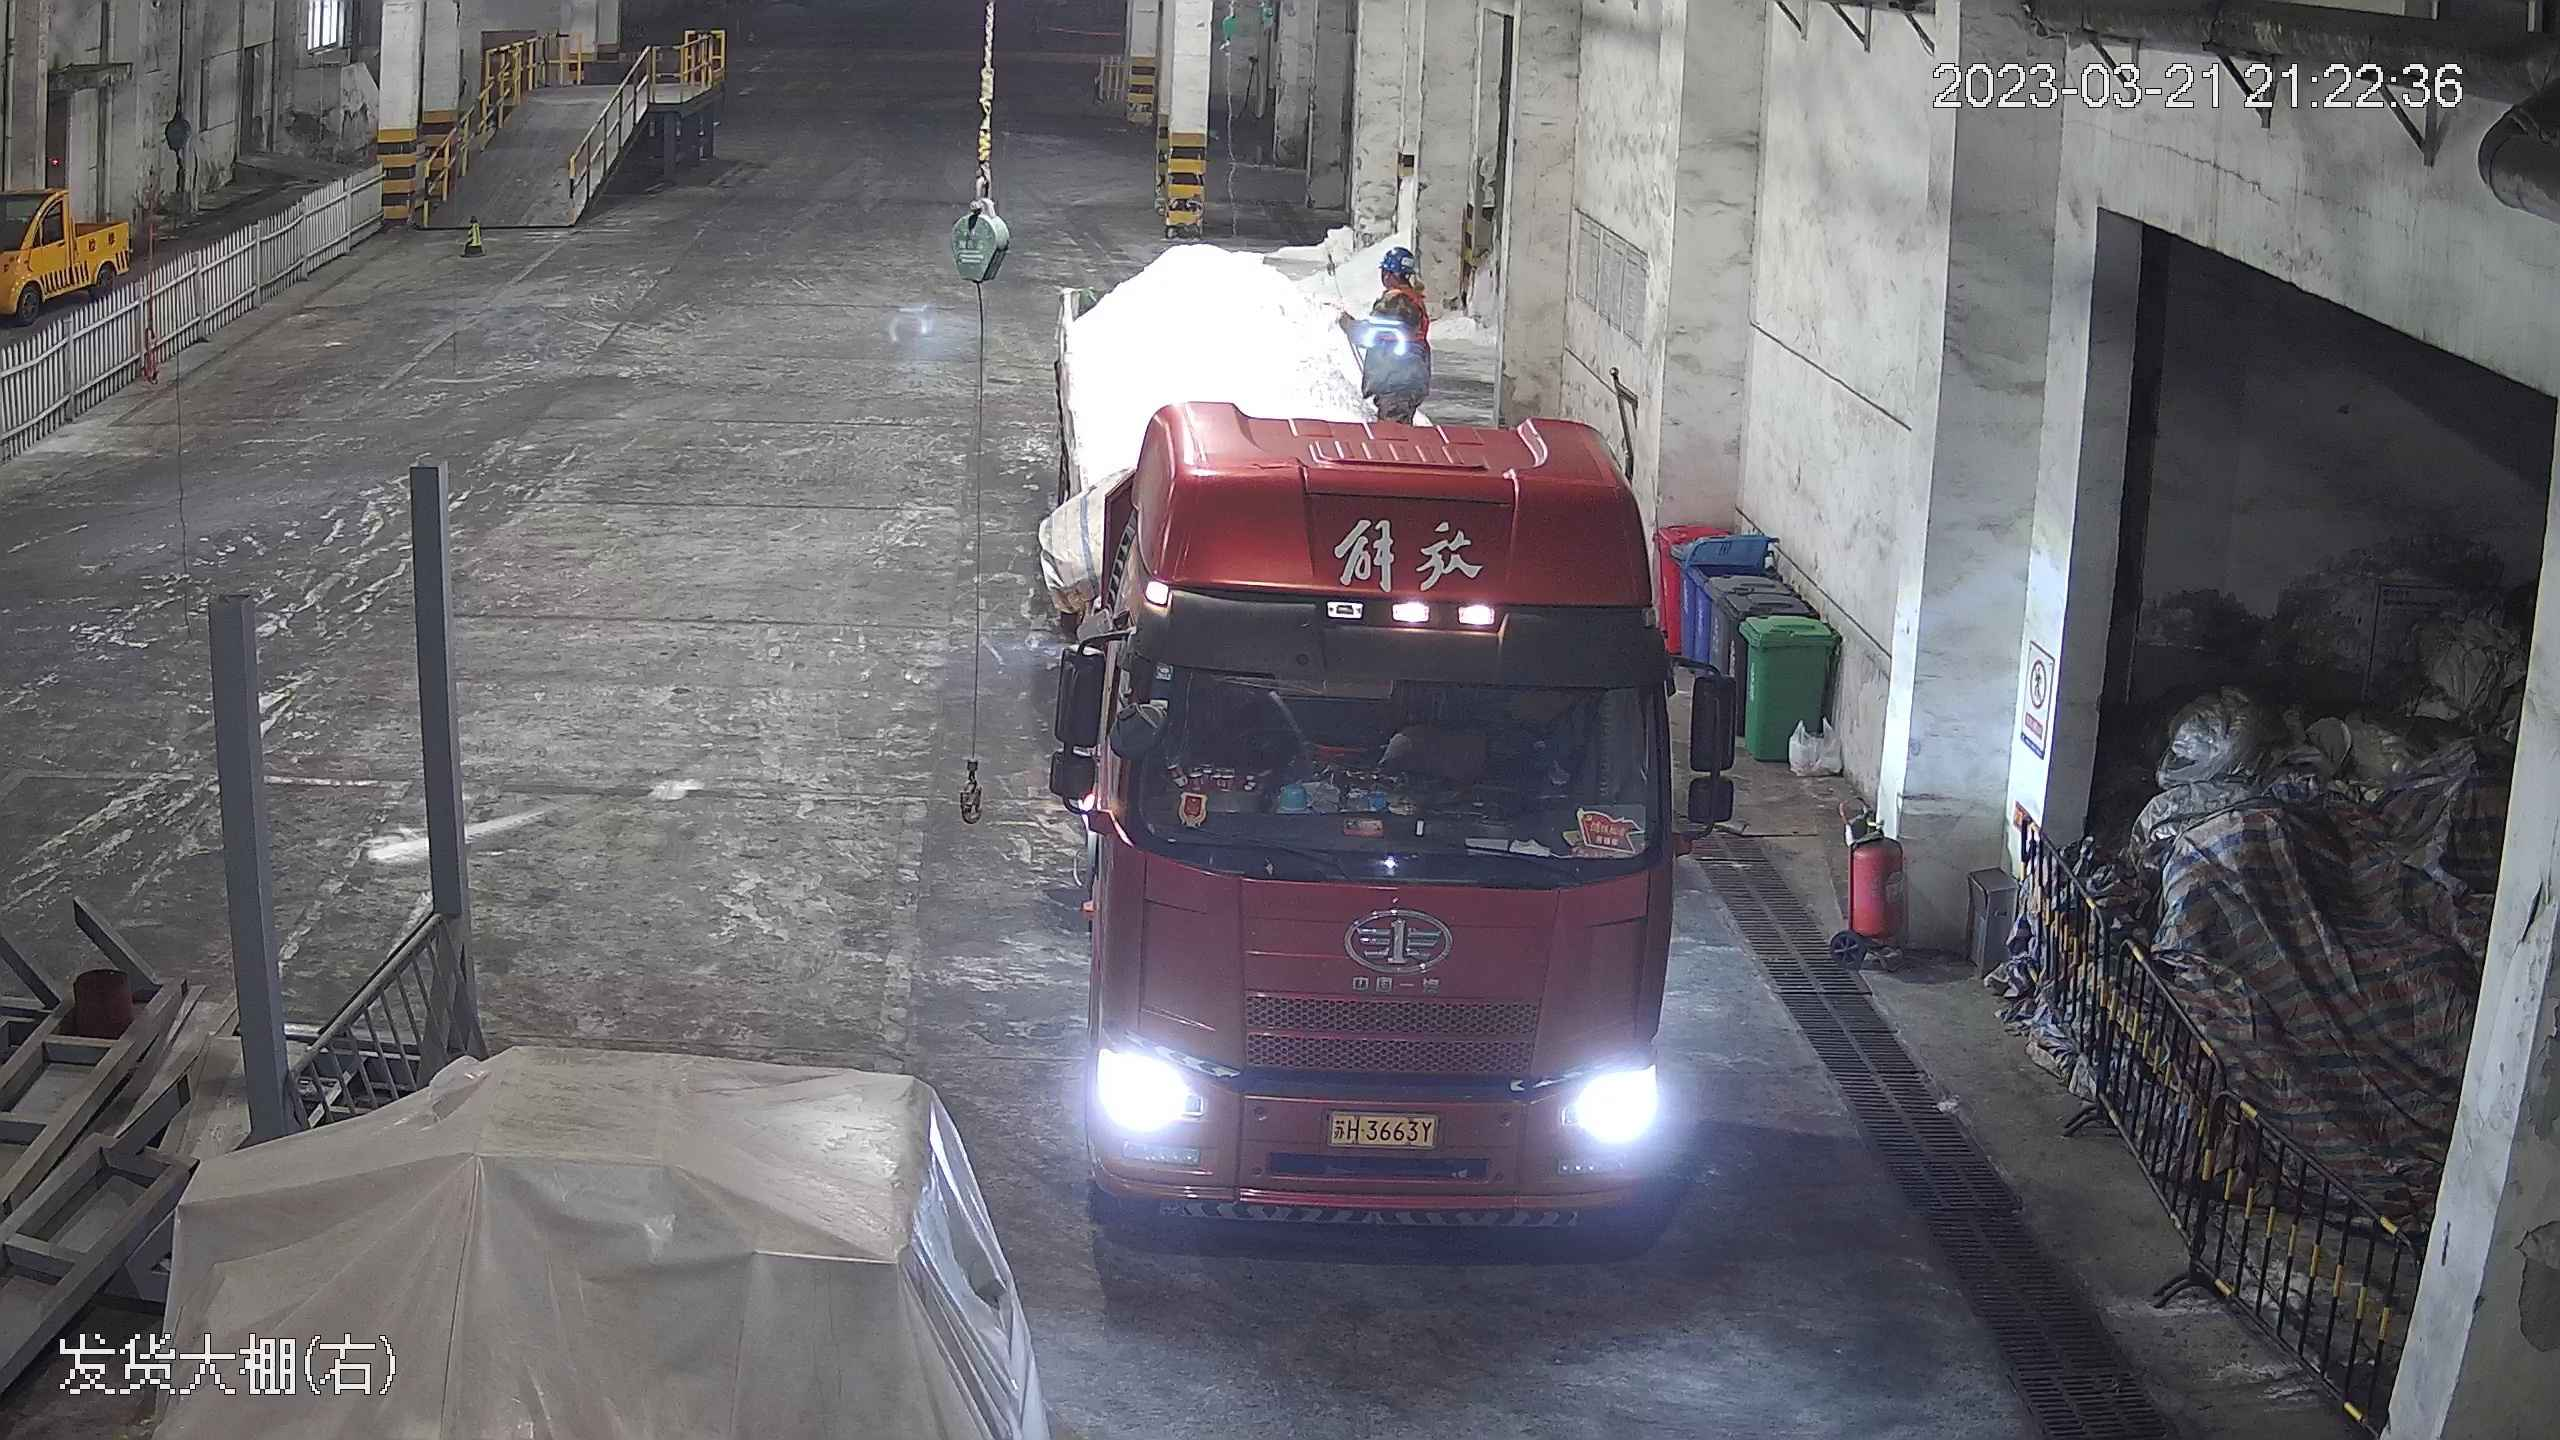belt: (1379, 276, 1433, 349)
head: (1368, 241, 1430, 332)
helmet: (1378, 242, 1415, 276)
people: (1358, 238, 1439, 415)
truck: (1030, 133, 1701, 1223)
